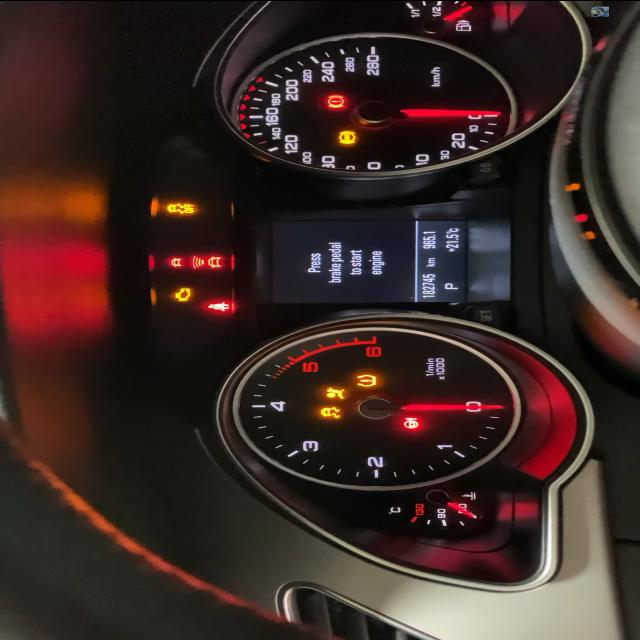Anti Lock Braking System: (320, 406, 342, 418), (338, 130, 356, 144)
Braking System Issue: (327, 94, 345, 106)
Check Engine: (174, 286, 192, 300)
Low Tire Pressure Warning Light: (356, 372, 379, 387)
SRS-Airbag: (324, 386, 346, 398)
